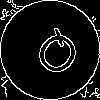Q: (25, 25, 86, 87)
